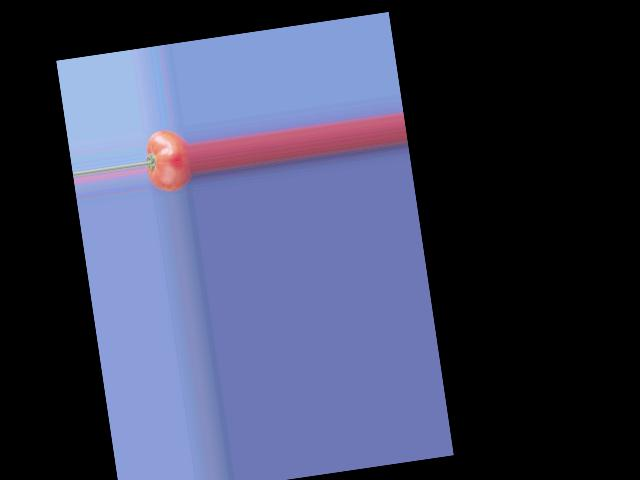tomato: (141, 127, 195, 195)
